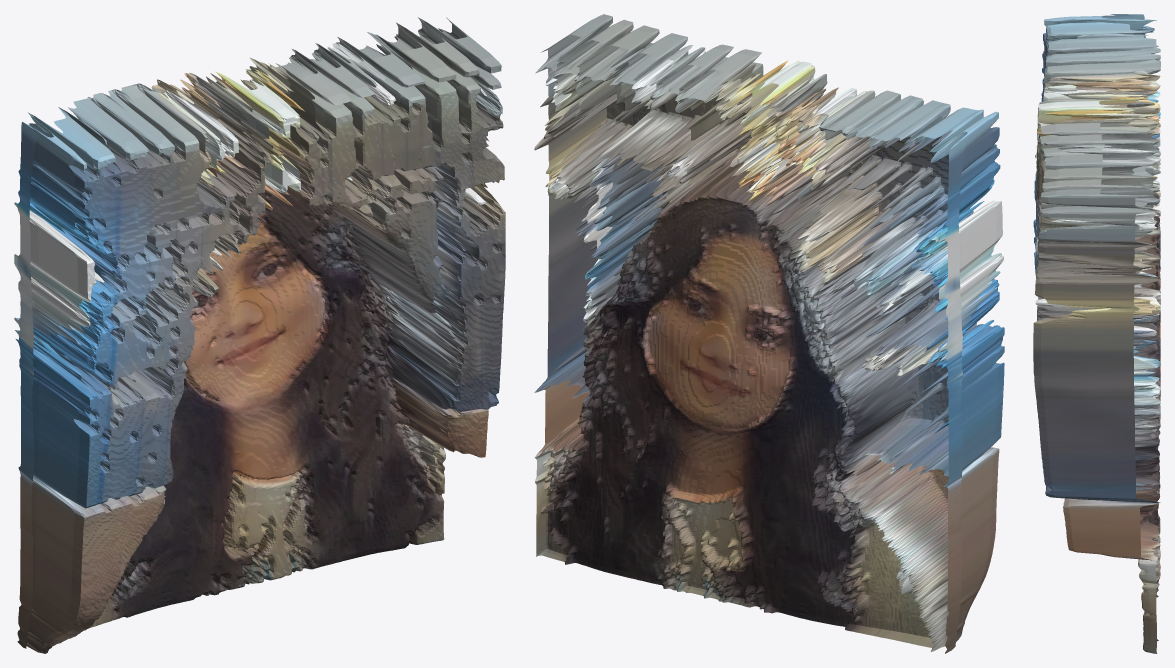
The model's file is holo_depth_3201992976_draco.glb.
3 renders of one model, left to right at view 1: azimuth 30°, elevation 25°; view 2: azimuth 150°, elevation 25°; view 3: azimuth 270°, elevation 25°, orthographic. The views are drawn at different scales.
Parts seen in each view (by area): view 1: world; view 2: world; view 3: world.
Boxes of the visible parts, <box> form: world: <box>14,17,505,653</box>; world: <box>534,14,1004,653</box>; world: <box>1033,14,1160,653</box>.
Size of the model in its own units: 0.8589 by 1.01 by 0.254.
Materials: 1 (1 with a texture image).
